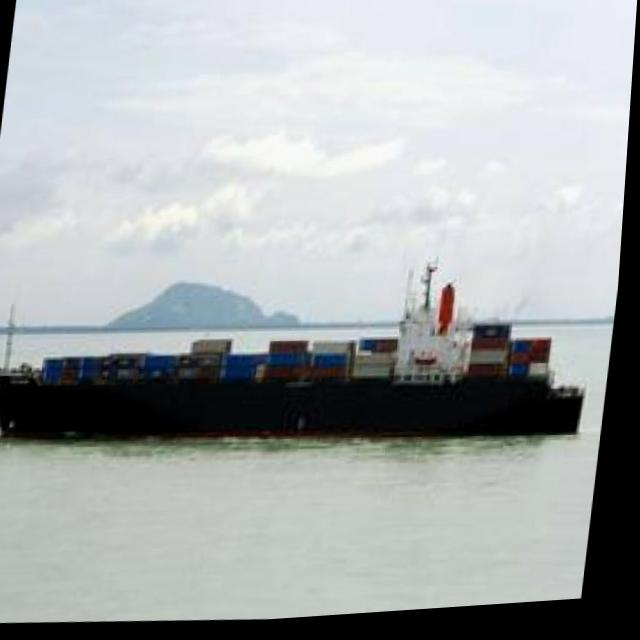ship2: (0, 277, 591, 448)
